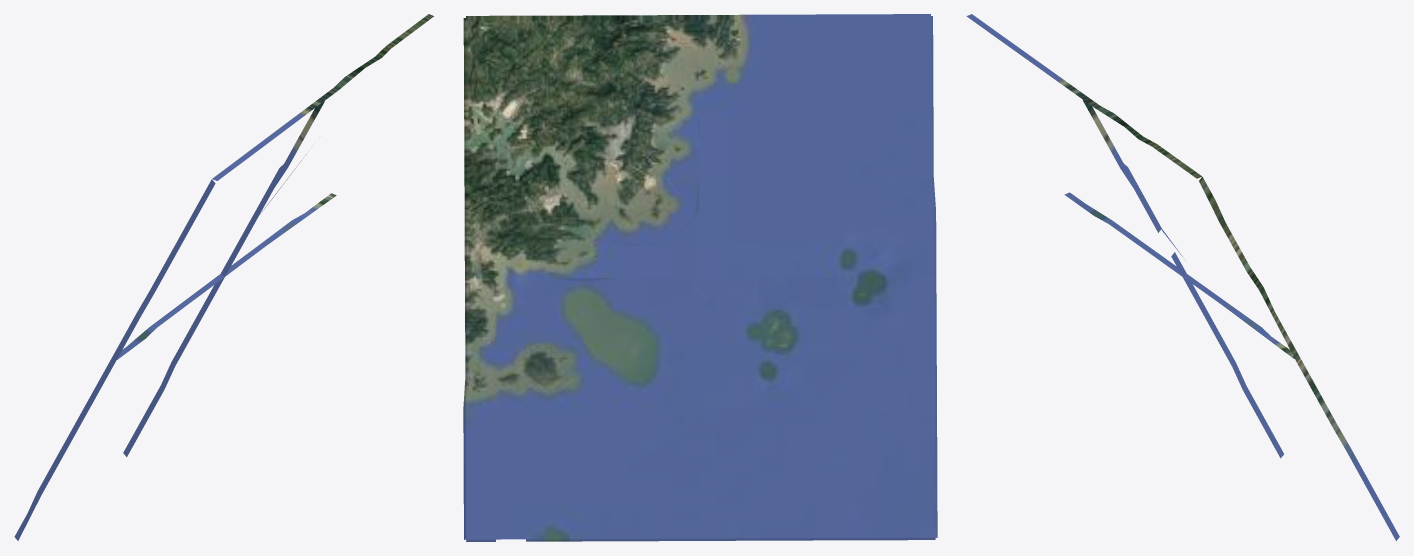
3 views of the same model, side by side, from view 1: azimuth 30°, elevation 25°; view 2: azimuth 150°, elevation 25°; view 3: azimuth 270°, elevation 25° (orthographic). The views are drawn at different scales.
Size of the model in its own units: 78828 by 70683 by 67184.
1 material, 1 textured.
